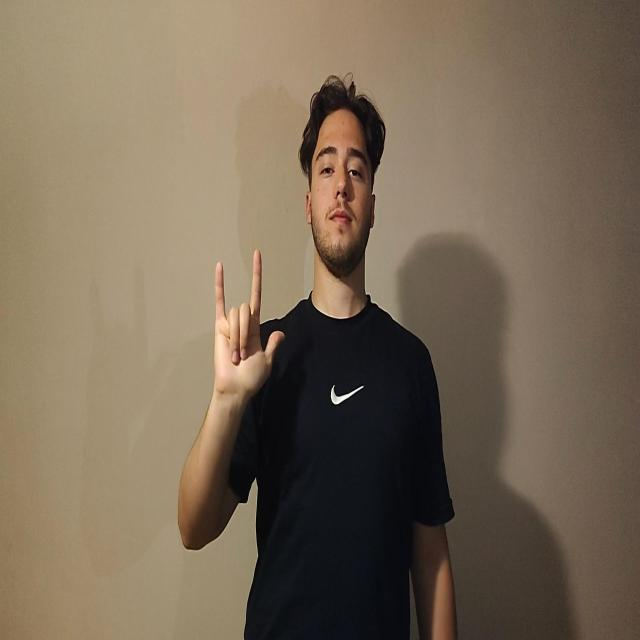iloveyou: (213, 248, 285, 403)
